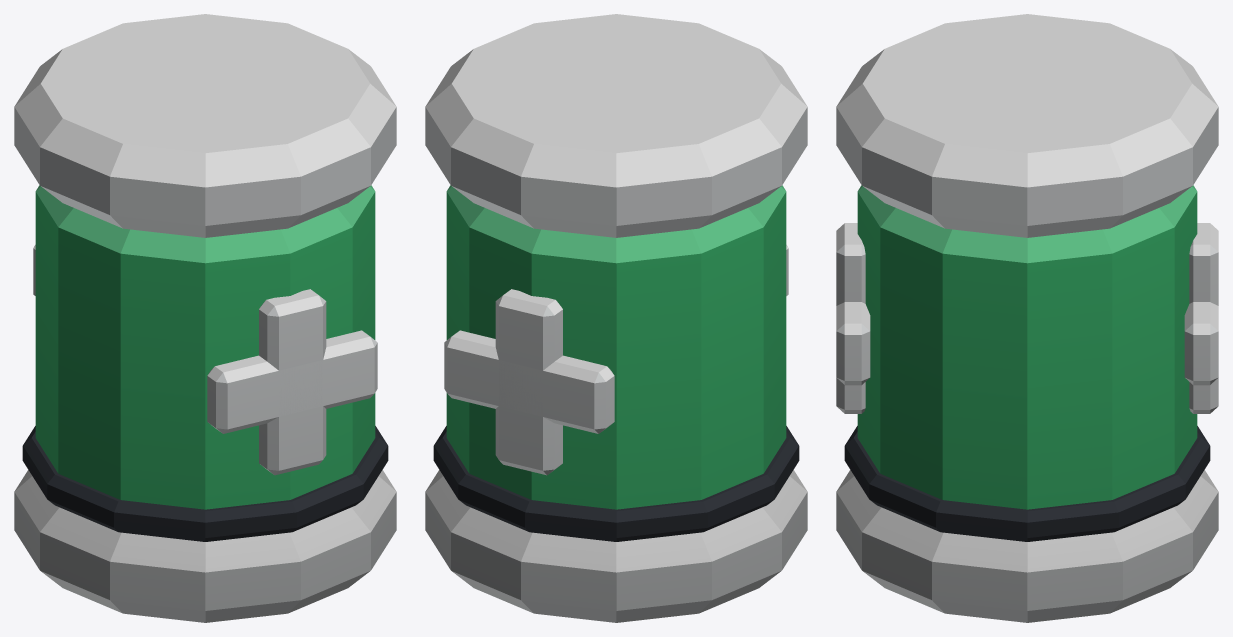
File: pickup.glb
The picture shows the model from 3 angles, left to right: view 1: azimuth 30°, elevation 25°; view 2: azimuth 150°, elevation 25°; view 3: azimuth 270°, elevation 25°; orthographic projection.
Parts seen in each view (by area): view 1: mesh_pickup; view 2: mesh_pickup; view 3: mesh_pickup.
Boxes of the visible parts, bbox=[...] form: mesh_pickup: bbox=[14, 14, 396, 622]; mesh_pickup: bbox=[425, 14, 807, 622]; mesh_pickup: bbox=[836, 14, 1218, 622].
Size of the model in its own units: 0.45 by 0.61 by 0.45.
